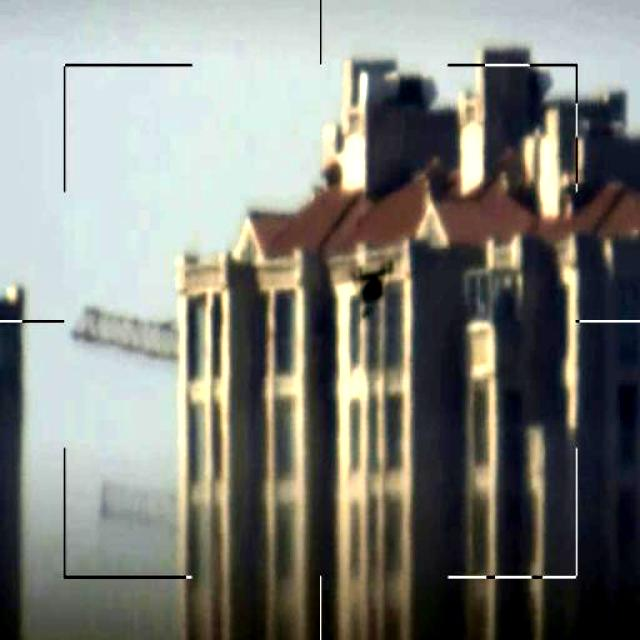bird: (346, 252, 394, 319)
